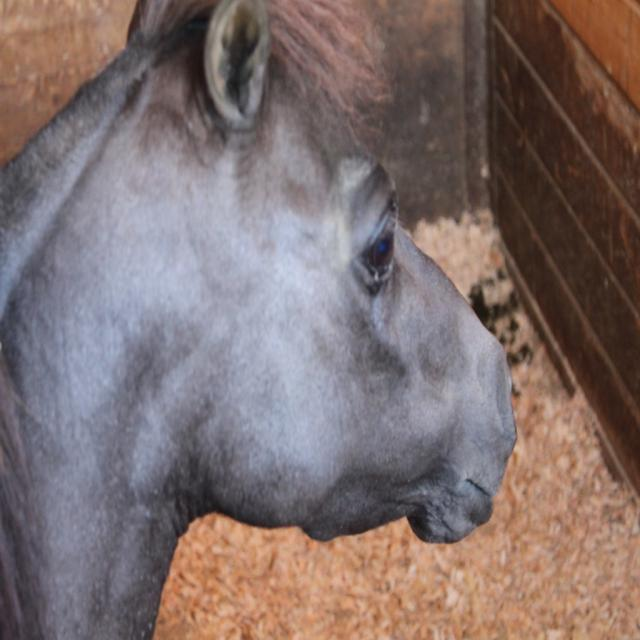Horse: (0, 0, 516, 639)
